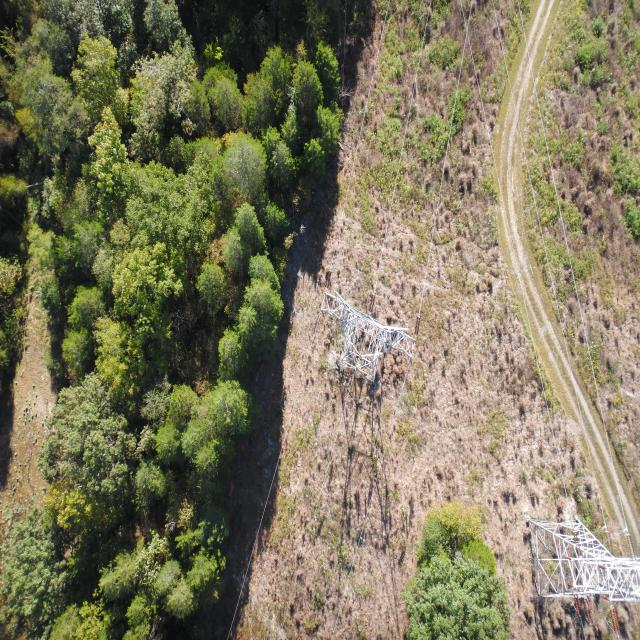Area of Interest: (7, 12, 354, 632)
